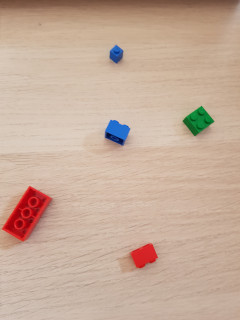1x1 blue: (108, 44, 125, 64)
1x2 red: (131, 243, 159, 269)
2x2 blue: (103, 117, 131, 145)
2x2 green: (183, 105, 215, 136)
2x4 red: (2, 183, 53, 245)
